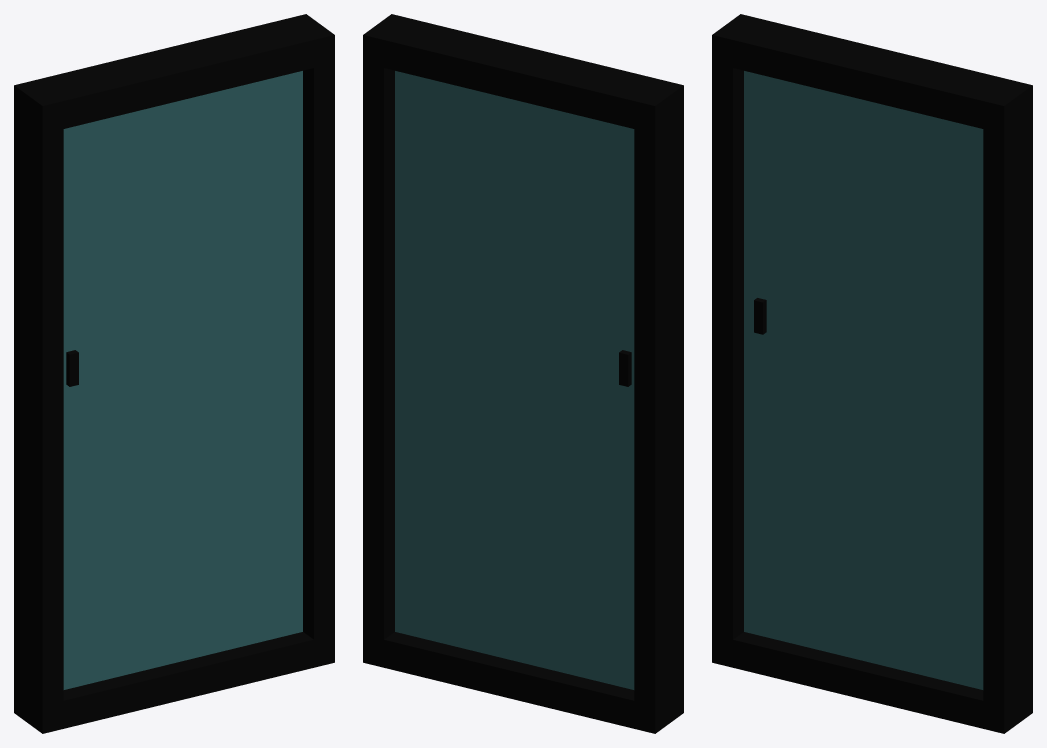
File: DoorIdea.fbx
3 renders of one model, left to right at view 1: azimuth 30°, elevation 25°; view 2: azimuth 150°, elevation 25°; view 3: azimuth 330°, elevation 25°, orthographic.
Parts seen in each view (by area): view 1: Cube; view 2: Cube; view 3: Cube.
Part boxes in pixels (bbox=[...]): Cube: bbox=[14, 14, 334, 733]; Cube: bbox=[363, 14, 683, 733]; Cube: bbox=[712, 14, 1032, 733].
Bounding box in the file's own units: 96.92 × 199 × 16.41.
